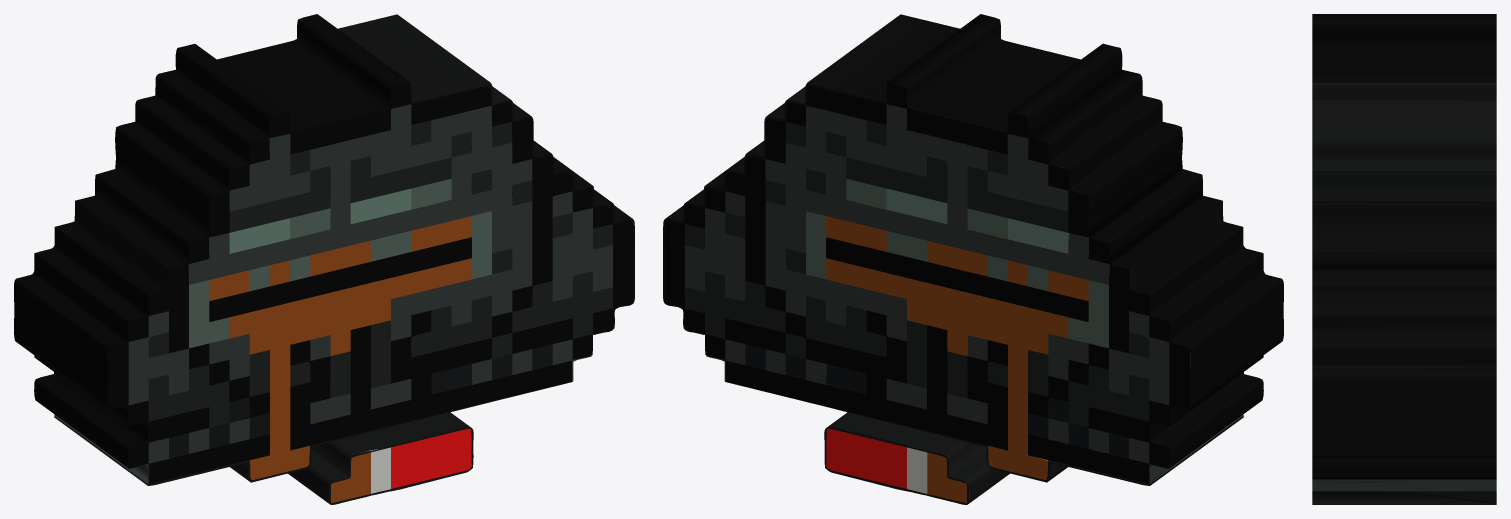
Rendered from Toadz_343.glb.
The picture shows the model from 3 angles, left to right: view 1: azimuth 30°, elevation 25°; view 2: azimuth 150°, elevation 25°; view 3: azimuth 270°, elevation 25°; orthographic projection.
Parts seen in each view (by area): view 1: Curve; view 2: Curve; view 3: Curve.
Boxes of the visible parts, x1,y1,x2,y2 form: Curve: (14,14,634,504); Curve: (663,14,1283,504); Curve: (1312,14,1496,504).
Bounding box in the file's own units: 3.25 × 2.38 × 1.
